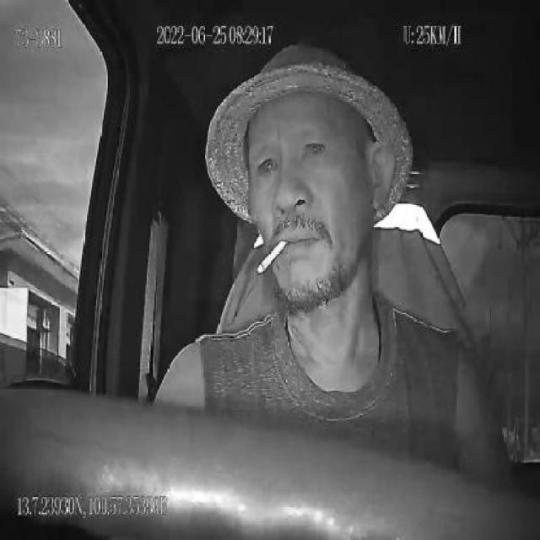smoking: (256, 239, 289, 277)
